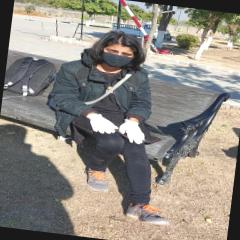gloved: (85, 112, 120, 135), (118, 118, 147, 145)
